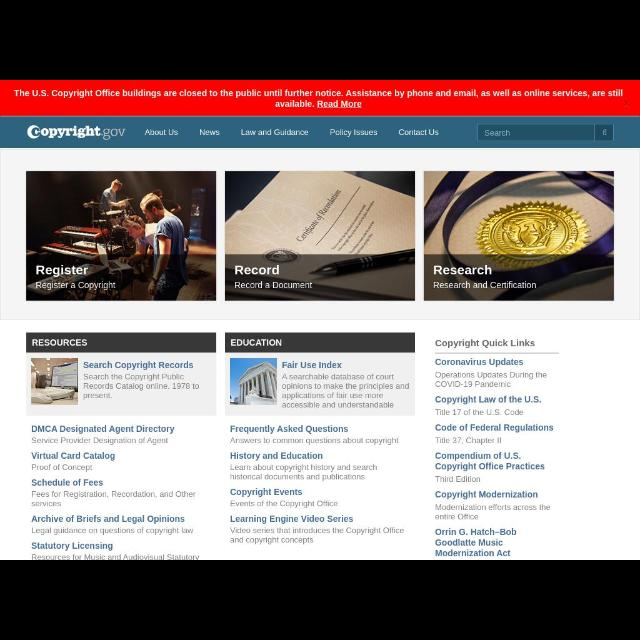image: (422, 169, 614, 299), (226, 170, 414, 302), (25, 170, 215, 298), (229, 361, 277, 404), (26, 122, 128, 142), (32, 357, 76, 401)
input: (478, 124, 614, 142)
link: (316, 100, 362, 108)
text: (13, 88, 623, 98), (231, 516, 405, 546), (282, 374, 412, 410), (31, 479, 195, 507), (228, 452, 378, 481), (32, 512, 196, 538), (433, 488, 552, 522), (84, 373, 200, 403), (228, 425, 400, 445), (31, 538, 186, 560), (433, 526, 519, 560), (28, 426, 178, 444), (228, 488, 338, 512), (432, 452, 546, 472), (434, 372, 548, 388), (32, 452, 116, 472), (436, 423, 554, 433), (85, 361, 195, 371), (436, 395, 544, 405), (434, 407, 524, 417), (435, 340, 535, 348), (435, 436, 501, 448), (432, 265, 492, 277), (436, 358, 524, 366), (31, 336, 89, 348), (234, 281, 314, 289), (36, 282, 116, 290), (35, 265, 87, 277), (438, 284, 538, 290), (284, 360, 344, 370), (240, 128, 310, 136), (230, 337, 282, 347), (235, 264, 278, 276), (330, 129, 380, 137), (144, 128, 178, 136), (436, 476, 480, 482), (397, 131, 439, 137), (485, 130, 509, 138), (275, 102, 311, 106), (200, 129, 220, 135)
toolbar: (0, 118, 638, 146)
